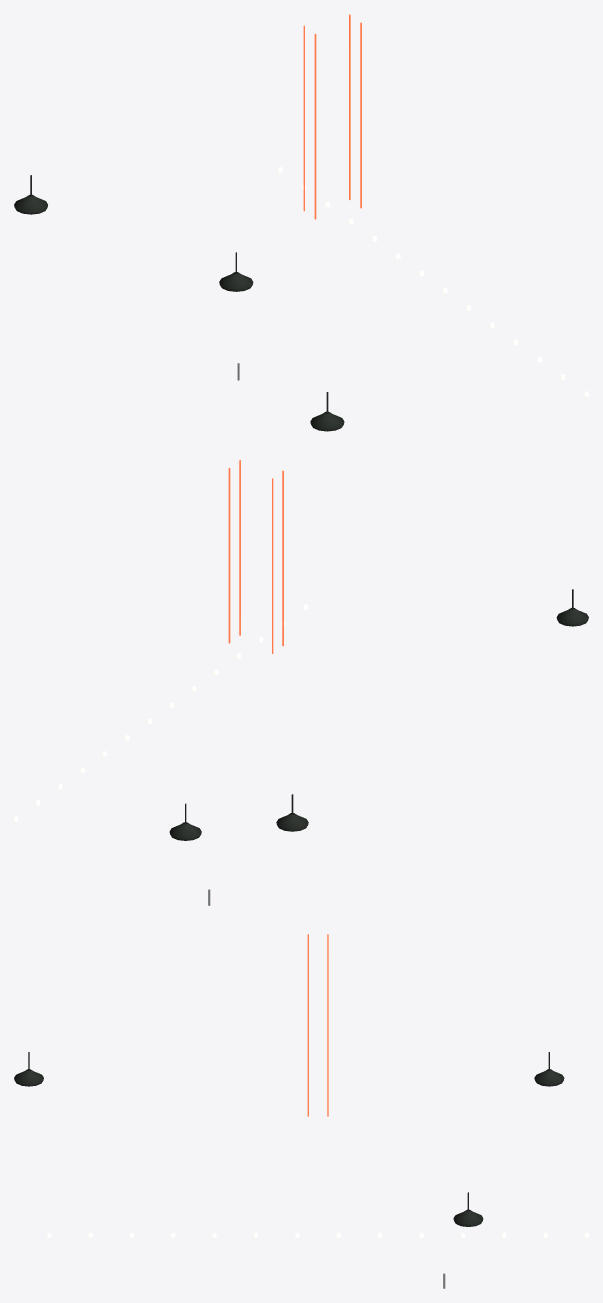
Rendered from SM_Town_Cinema_Fixtures_LOD1.fbx.
3 views of the same model, one above another, from view 1: azimuth 30°, elevation 25°; view 2: azimuth 150°, elevation 25°; view 3: azimuth 270°, elevation 25° (orthographic). The views are drawn at different scales.
Parts seen in each view (by area): view 1: SM_Town_Cinema_Fixtures_LOD1; view 2: SM_Town_Cinema_Fixtures_LOD1; view 3: SM_Town_Cinema_Fixtures_LOD1.
Boxes of the visible parts, x1,y1,x2,y2 form: SM_Town_Cinema_Fixtures_LOD1: (14, 14, 588, 431); SM_Town_Cinema_Fixtures_LOD1: (14, 460, 588, 905); SM_Town_Cinema_Fixtures_LOD1: (14, 934, 588, 1288).
Size of the model in its own units: 5.05 by 9.95 by 6.75.
